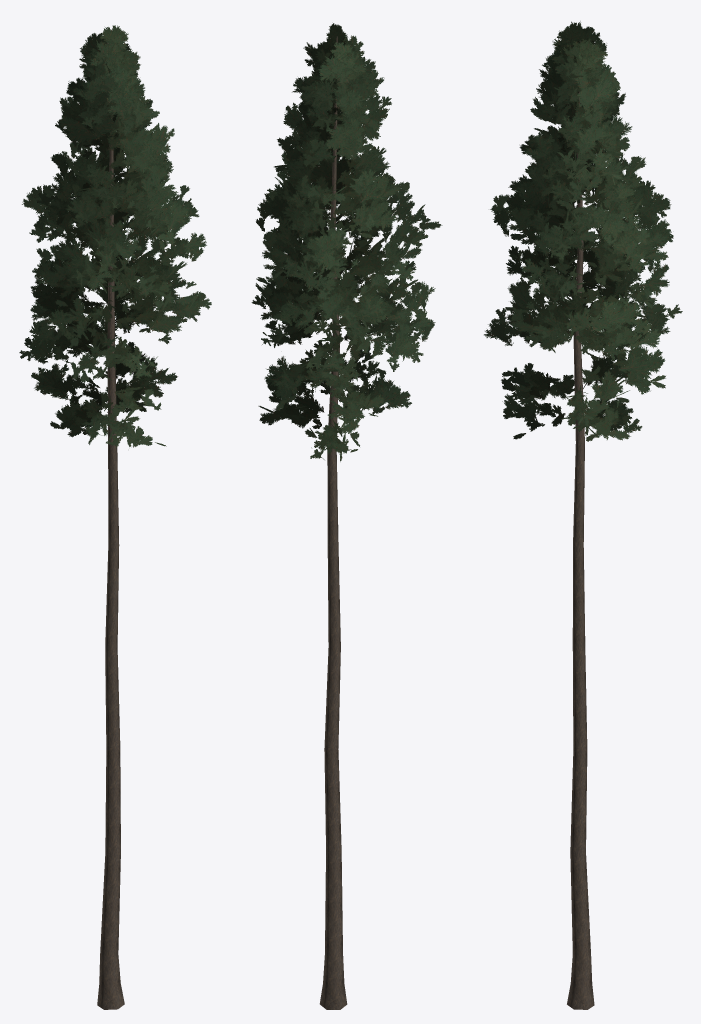
The model's file is pine_b_lod1.glb.
3 views of the same model, side by side, from view 1: azimuth 30°, elevation 25°; view 2: azimuth 150°, elevation 25°; view 3: azimuth 270°, elevation 25° (orthographic).
Parts seen in each view (by area): view 1: pine_b_lod1; view 2: pine_b_lod1; view 3: pine_b_lod1.
Boxes of the visible parts, bbox=[...] form: pine_b_lod1: bbox=[19, 25, 211, 1009]; pine_b_lod1: bbox=[251, 23, 442, 1009]; pine_b_lod1: bbox=[484, 21, 682, 1009].
Bounding box in the file's own units: 4.34 × 23.37 × 4.56.
2 materials, 2 textured.
